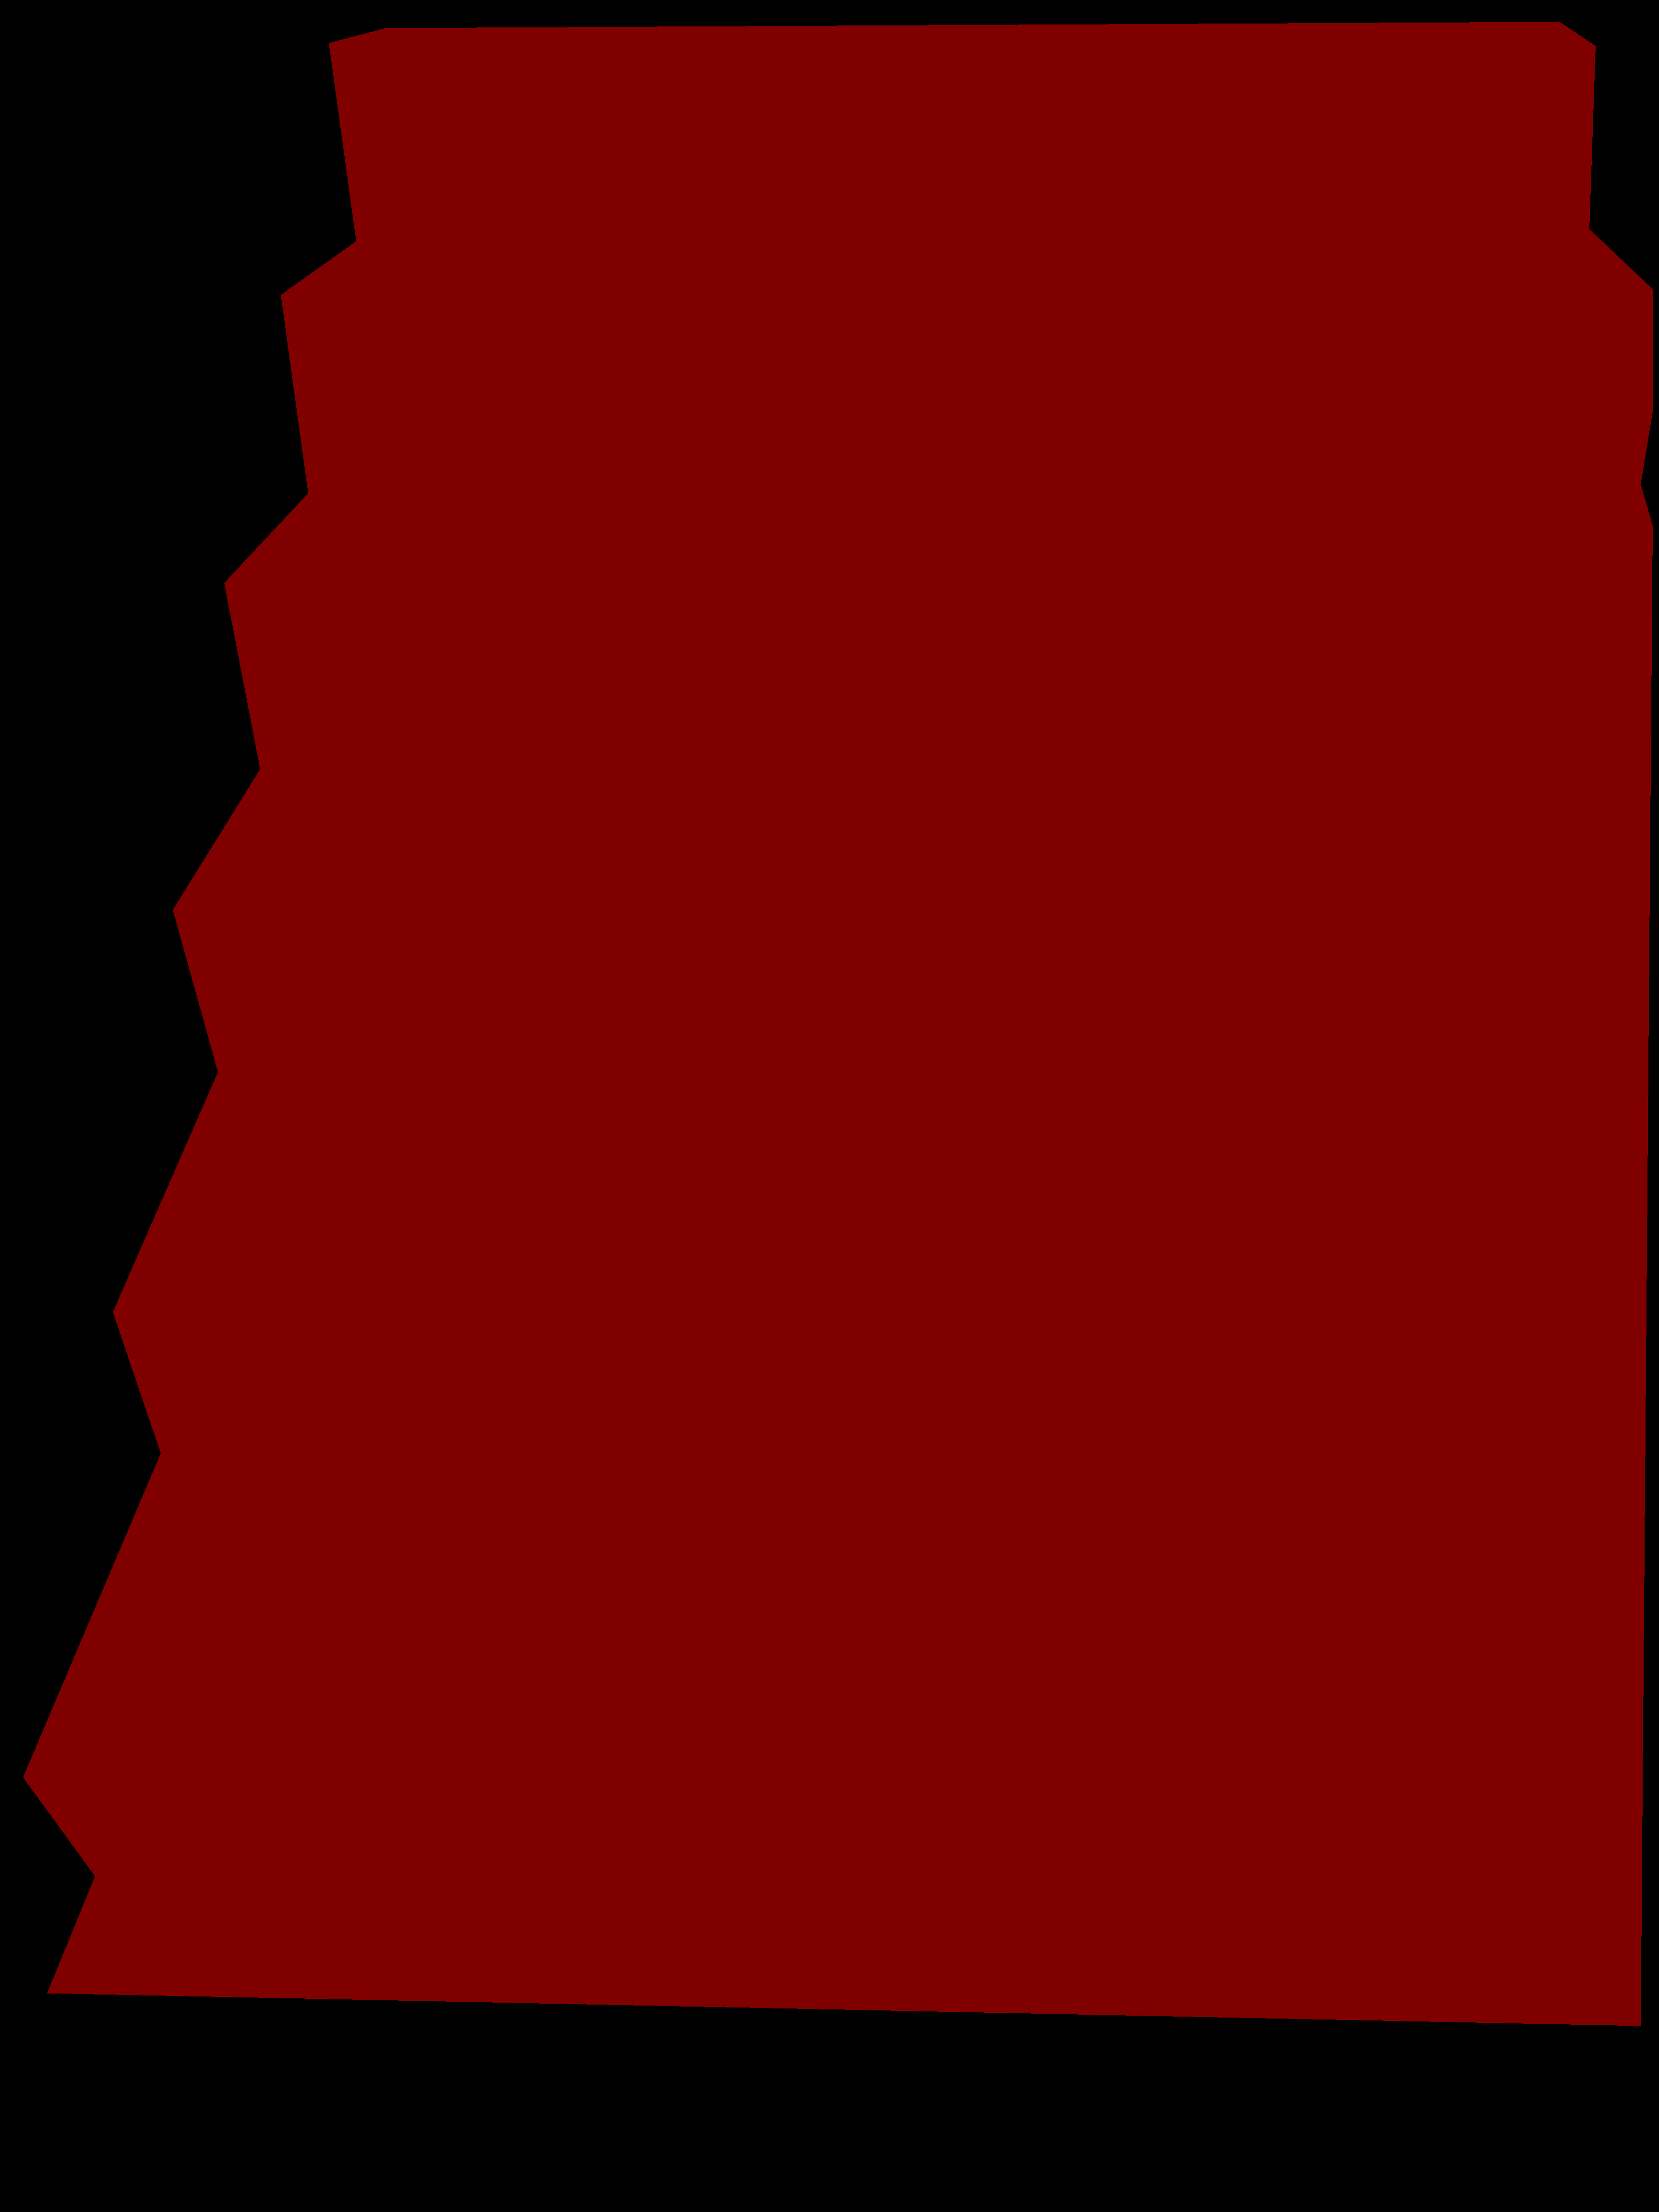stair: (23, 21, 1652, 2026)
